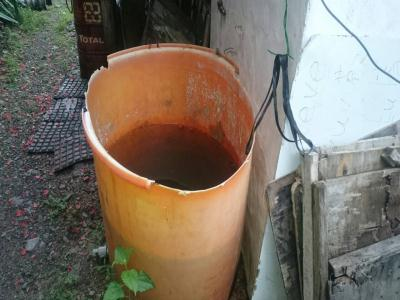bucket: (77, 43, 259, 298)
